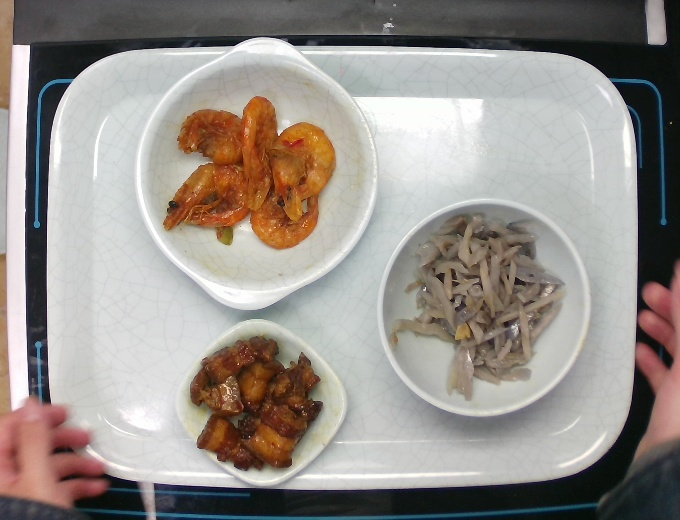JYsf-Fan_Wan: (376, 191, 598, 420)
JYsf-Shuang_Er_Wan: (128, 38, 385, 323)
JYsf-Si_Fang_Die: (172, 321, 353, 501)
